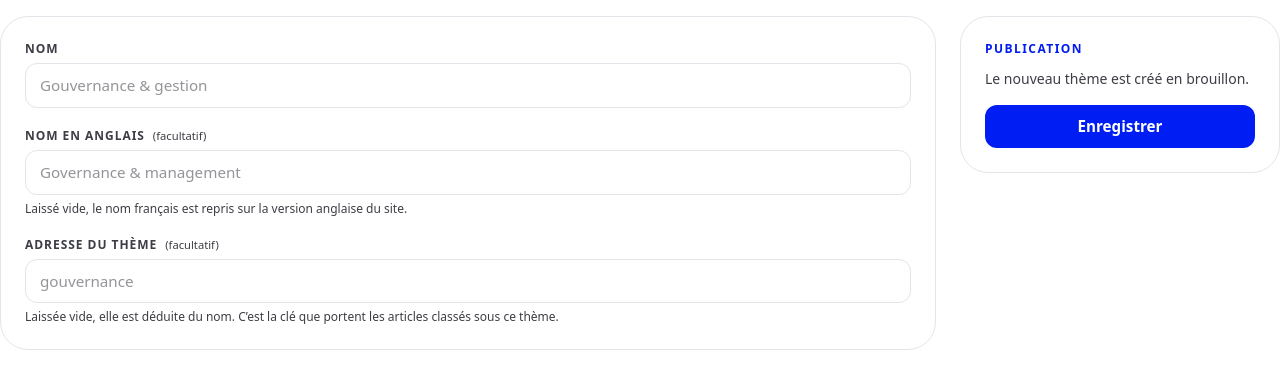
Test: ThemeForm › refuse un thème sans nom, sans rien envoyer à l’API
Click the button "Enregistrer". click: point(1120, 126)
box: [985,105,1255,148]
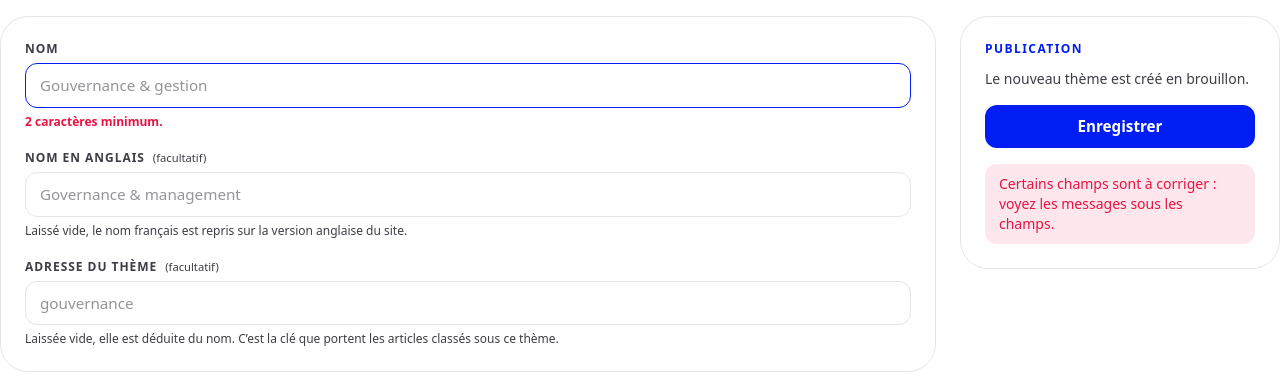
Expected: the text "2 caractères minimum." is shown, [25,113,163,130]
